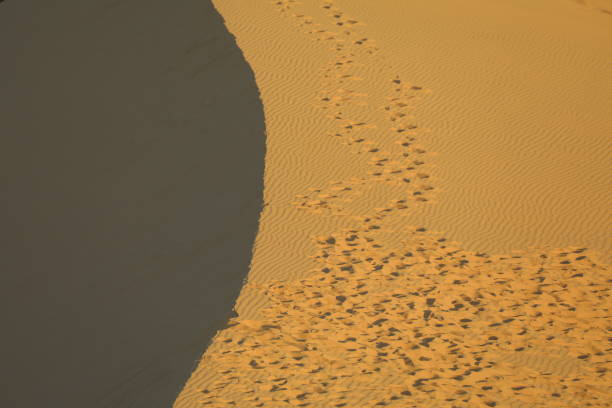animal_footprint: (198, 78, 611, 407), (203, 220, 609, 407), (292, 178, 364, 214), (315, 88, 367, 113), (271, 0, 301, 11)
